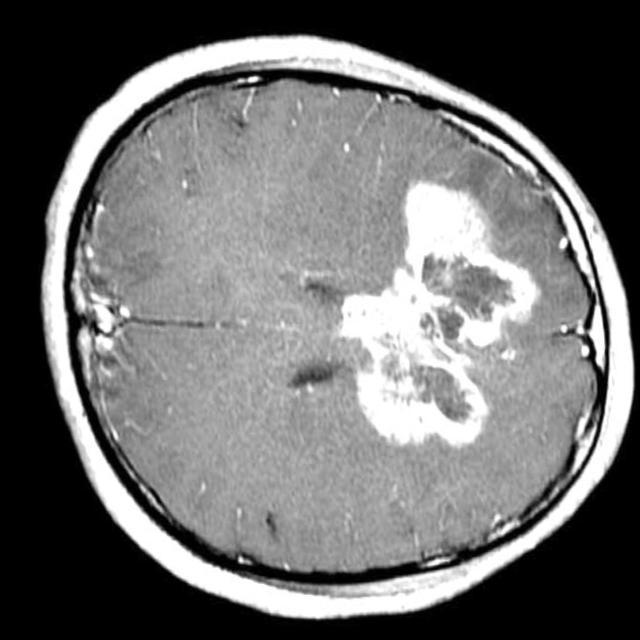Tumor: (335, 183, 528, 444)
